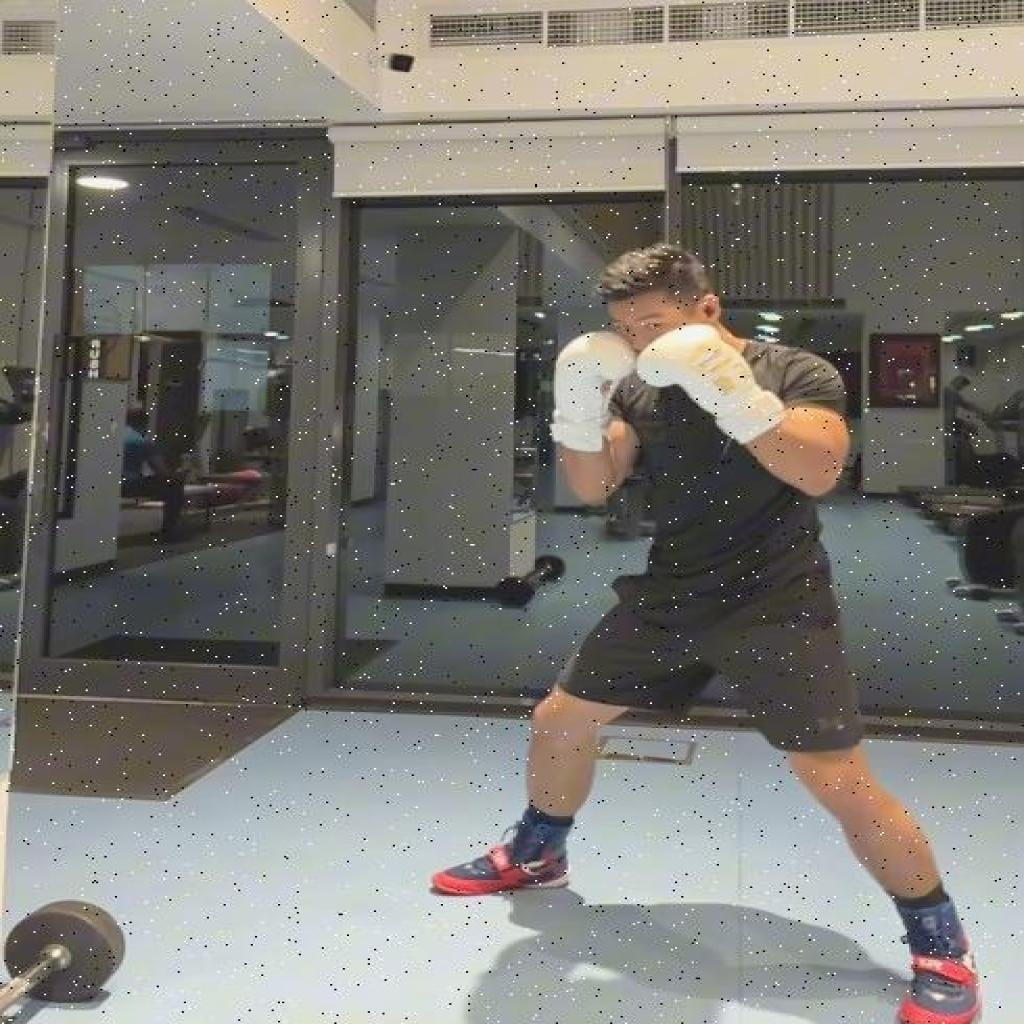no punch: (433, 245, 984, 1024)
